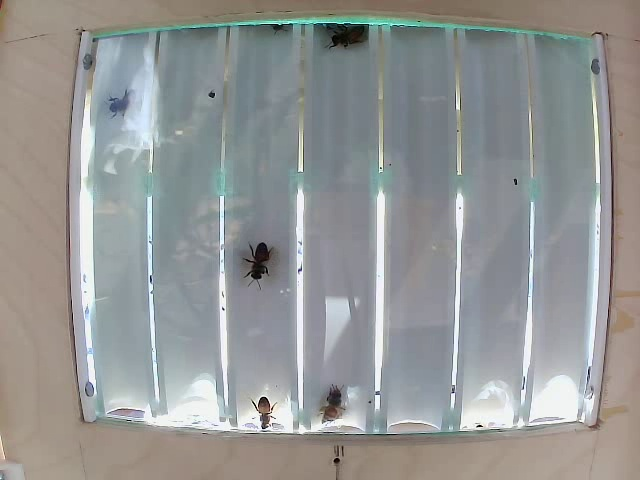bee: (236, 237, 282, 292), (248, 388, 299, 430), (312, 375, 348, 418)
